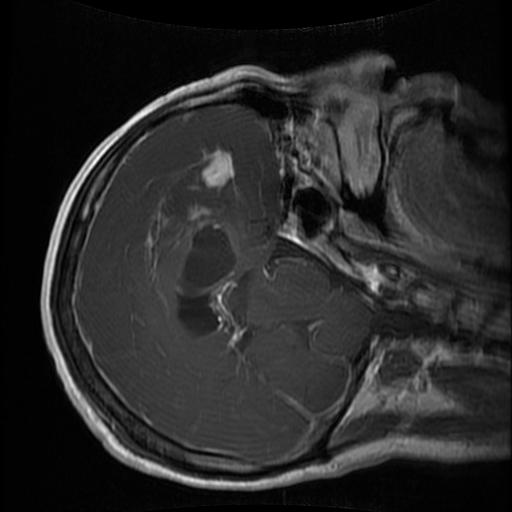glioma: (159, 146, 255, 356)
